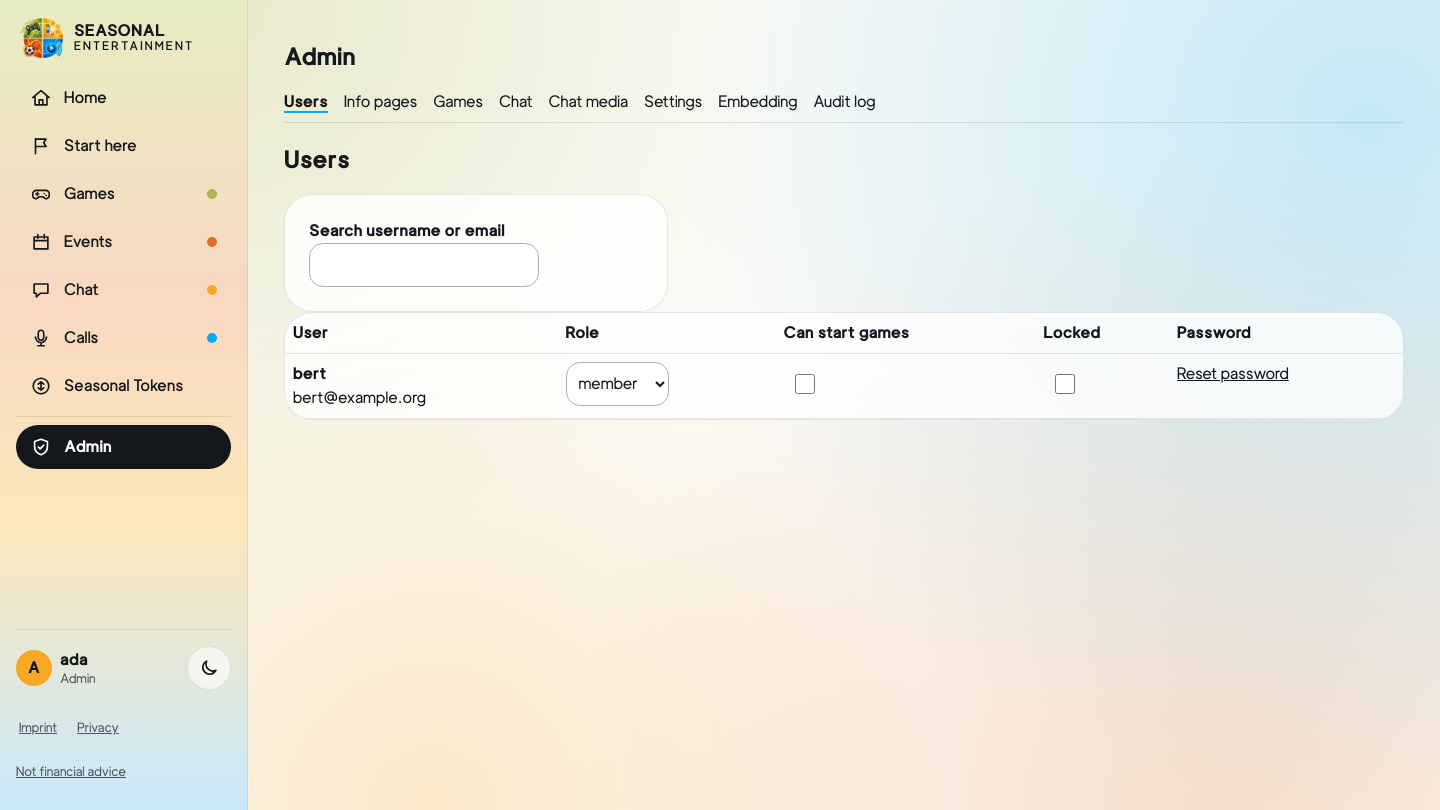
users page › lists users and changes a role
Expected: the link "Admin" is shown, 16,425 -> 231,469
Select "organiser" in the dropdown named "Role for bert": (617, 384) 566,362 -> 668,406
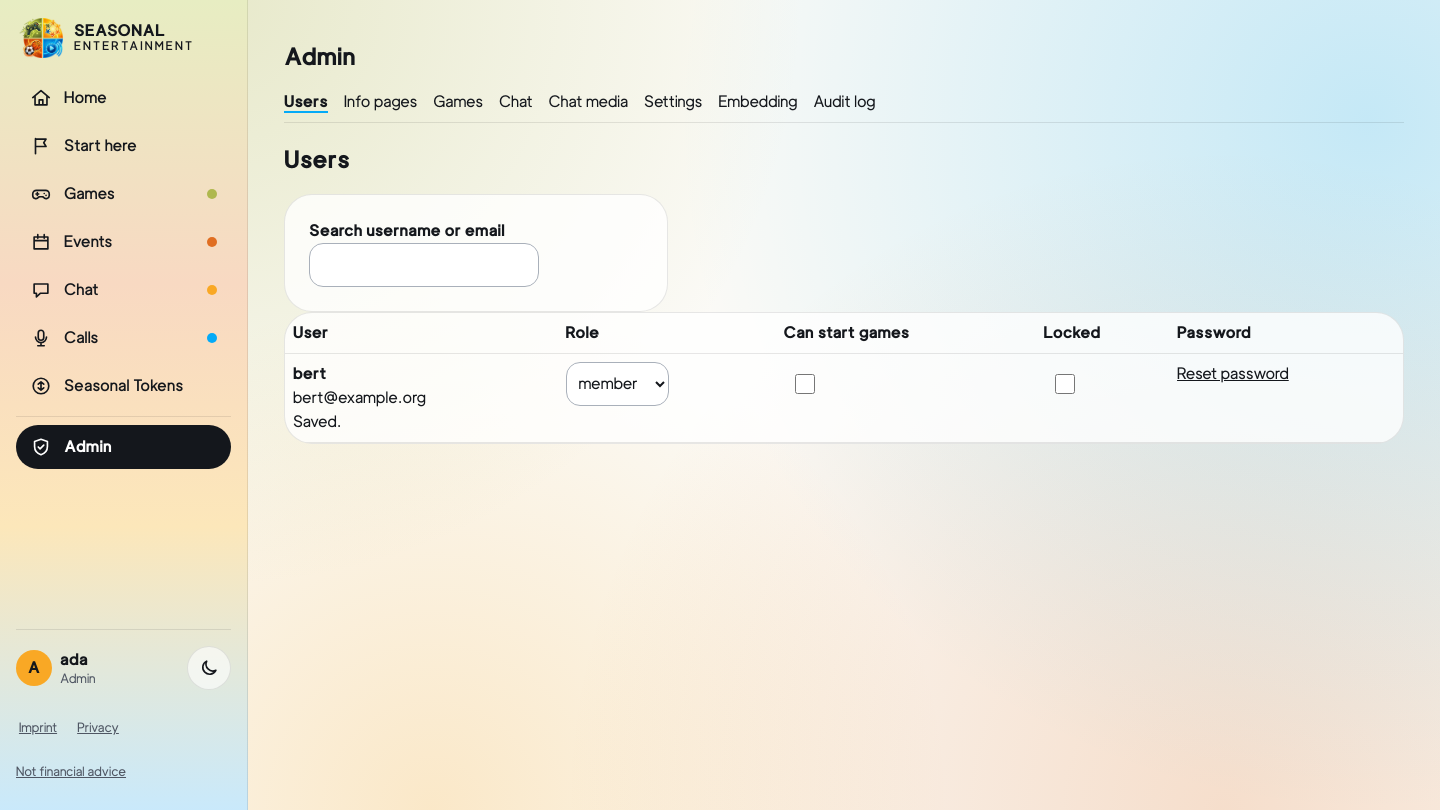
Expected: the text "Saved." is shown, 293,412 -> 342,430
